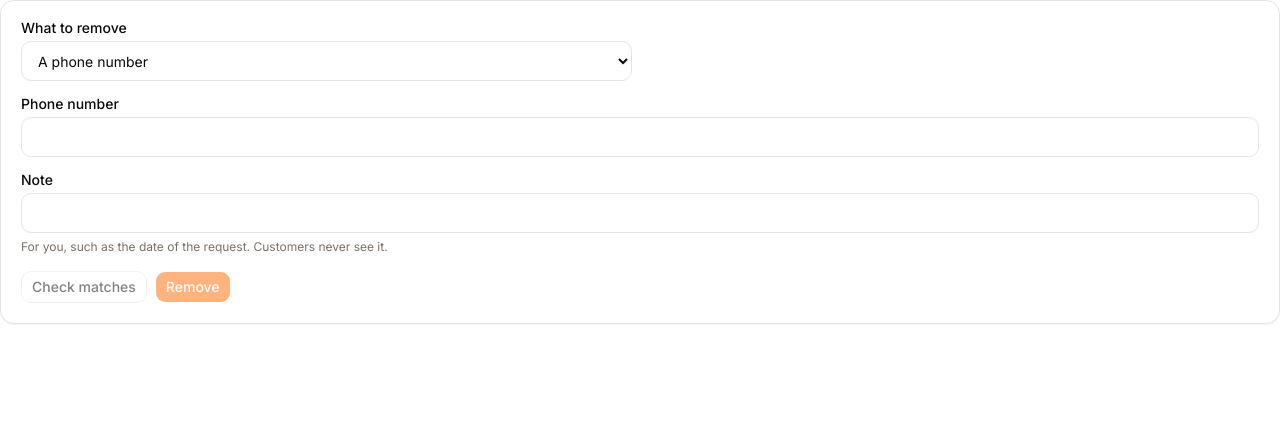
Test: RemovalForm › says a removal cannot be put back once a record is picked
This screenshot has width=1280, height=431.
Step 1. Select "A whole record" in the dropdown labelled "What to remove" → (326, 61), box [21,41,632,81]
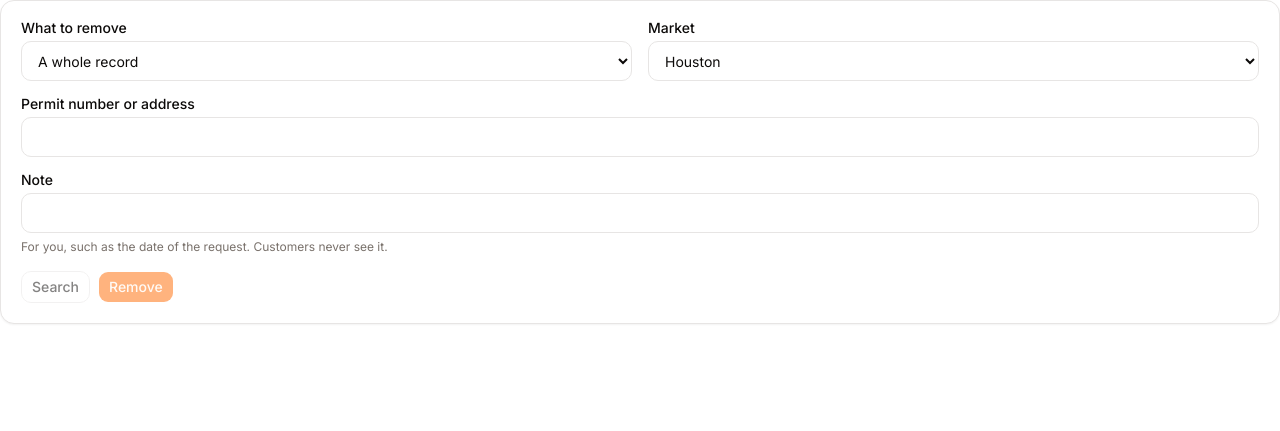
Step 2. Type "1 Main" into the field labelled "Permit number or address" → (640, 137), box [21,117,1259,157]
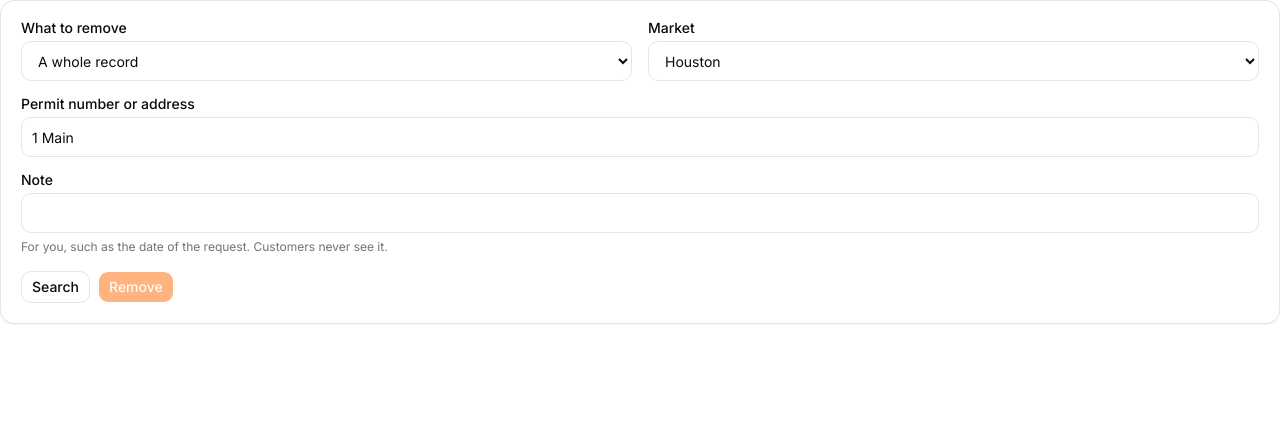
Step 3. Click the button "Search" → (56, 287), box [21,271,90,303]
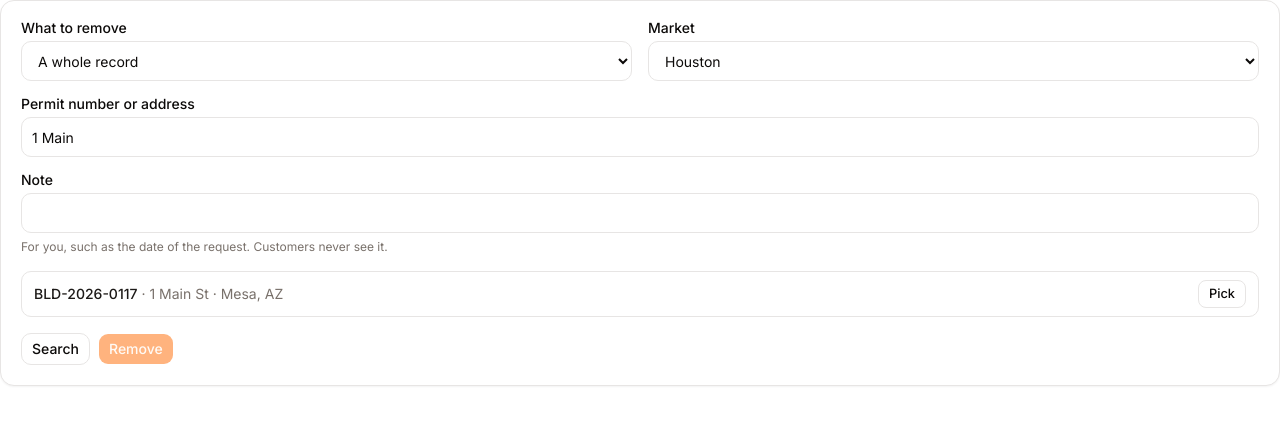
Step 4. Click the button with aria-label "Pick BLD-2026-0117" → (1222, 294), box [1198,280,1246,308]
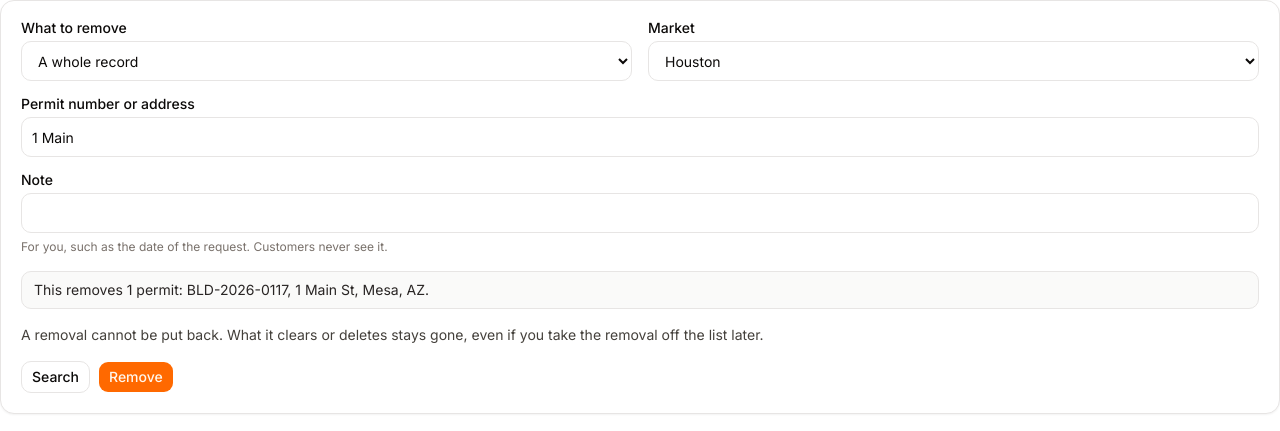
Now the text "A removal cannot be put back." is shown, box [21,326,764,343]
